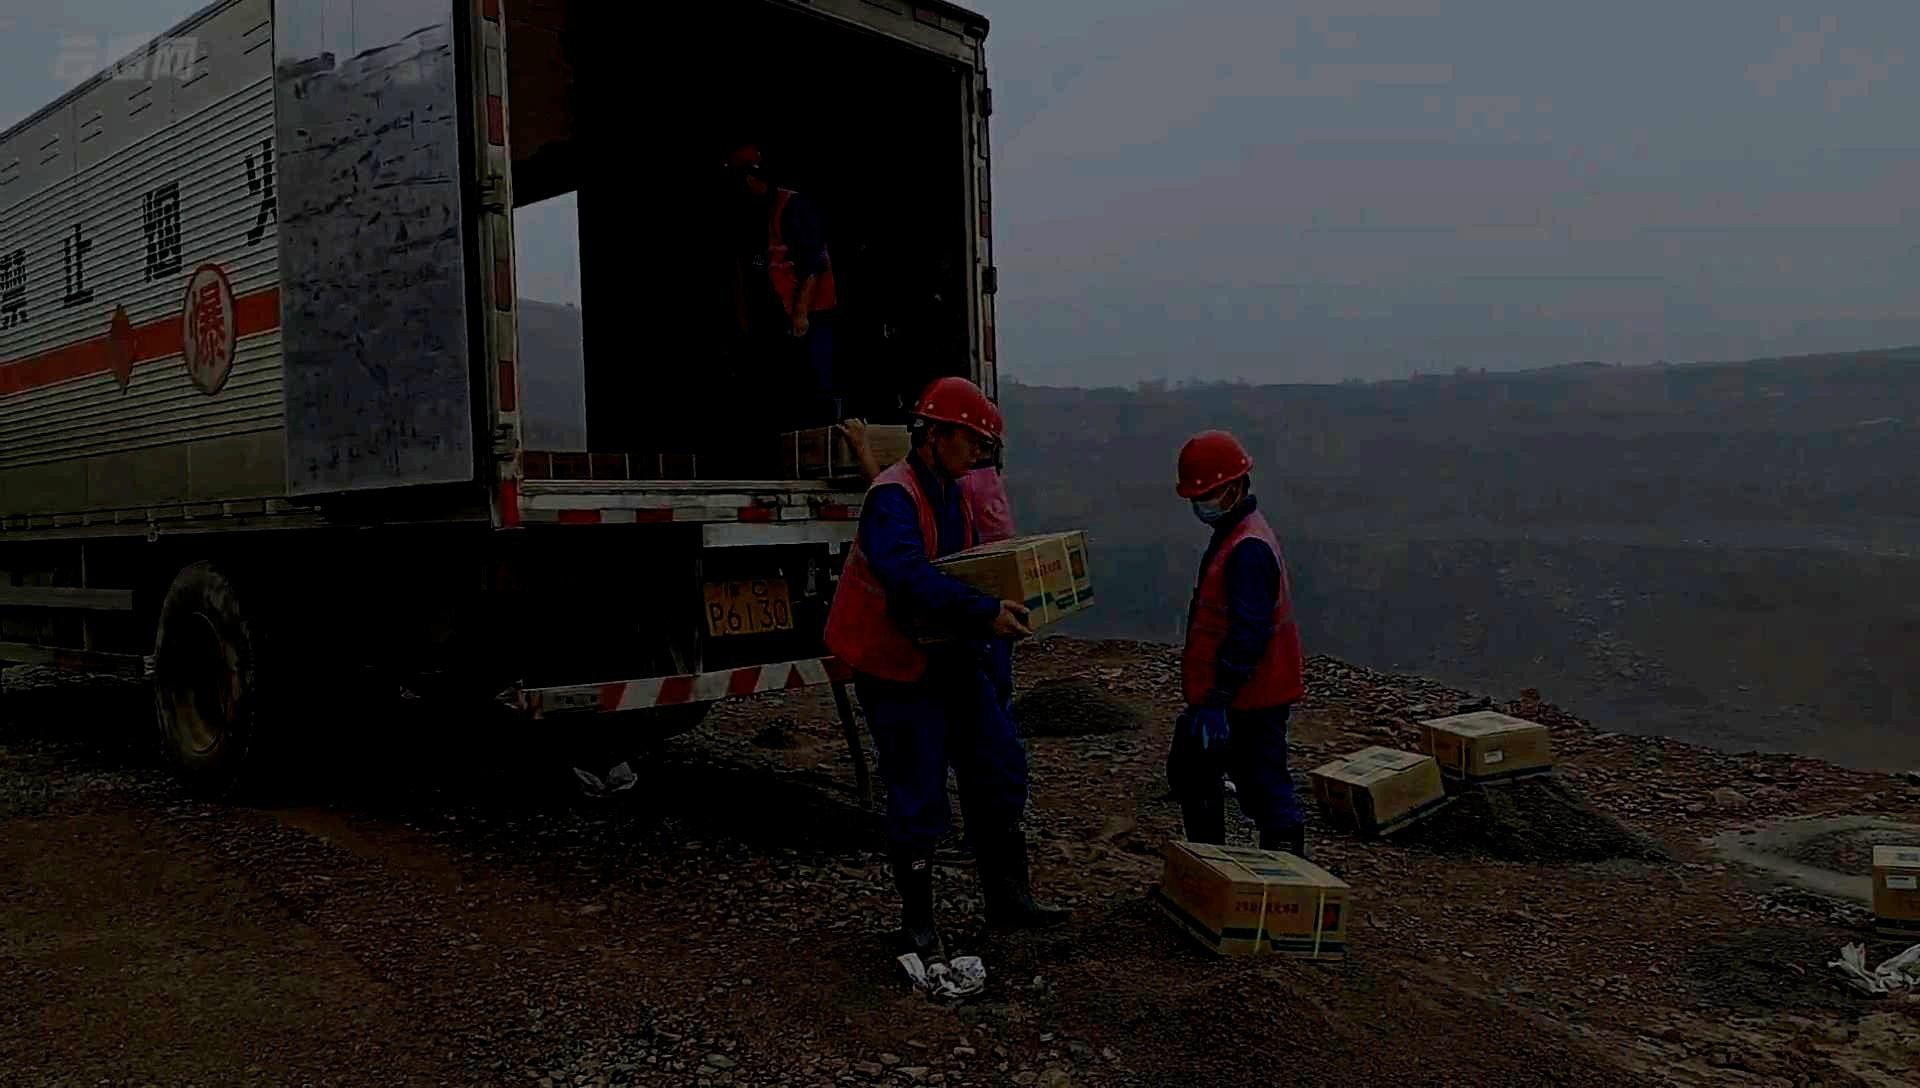helmet: (906, 376, 992, 477), (1175, 429, 1254, 528), (975, 402, 1006, 462)
